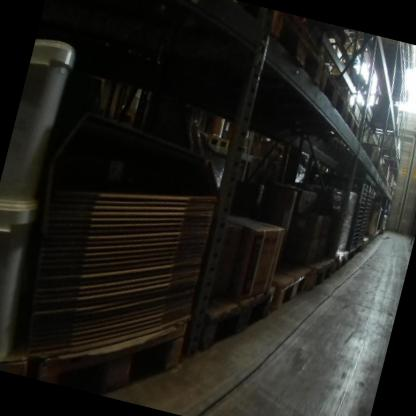pallet: (161, 0, 335, 131), (27, 280, 197, 412), (175, 261, 278, 374), (252, 48, 357, 144), (256, 256, 313, 329), (295, 251, 338, 298), (337, 97, 371, 154), (314, 246, 348, 290), (337, 152, 385, 182), (0, 339, 37, 377), (327, 27, 379, 54), (202, 128, 236, 159), (357, 235, 371, 256), (379, 174, 389, 191), (377, 171, 387, 187), (382, 178, 392, 194), (366, 233, 375, 249), (373, 229, 382, 240)
stillage: (322, 171, 374, 264), (351, 185, 379, 260)
